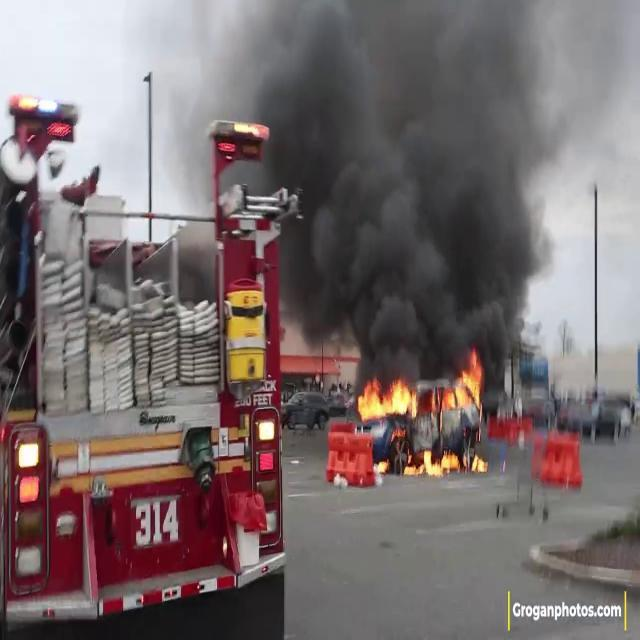Fire: (357, 370, 418, 422), (440, 350, 484, 410), (404, 443, 462, 480)
Smoke: (279, 1, 575, 353)
